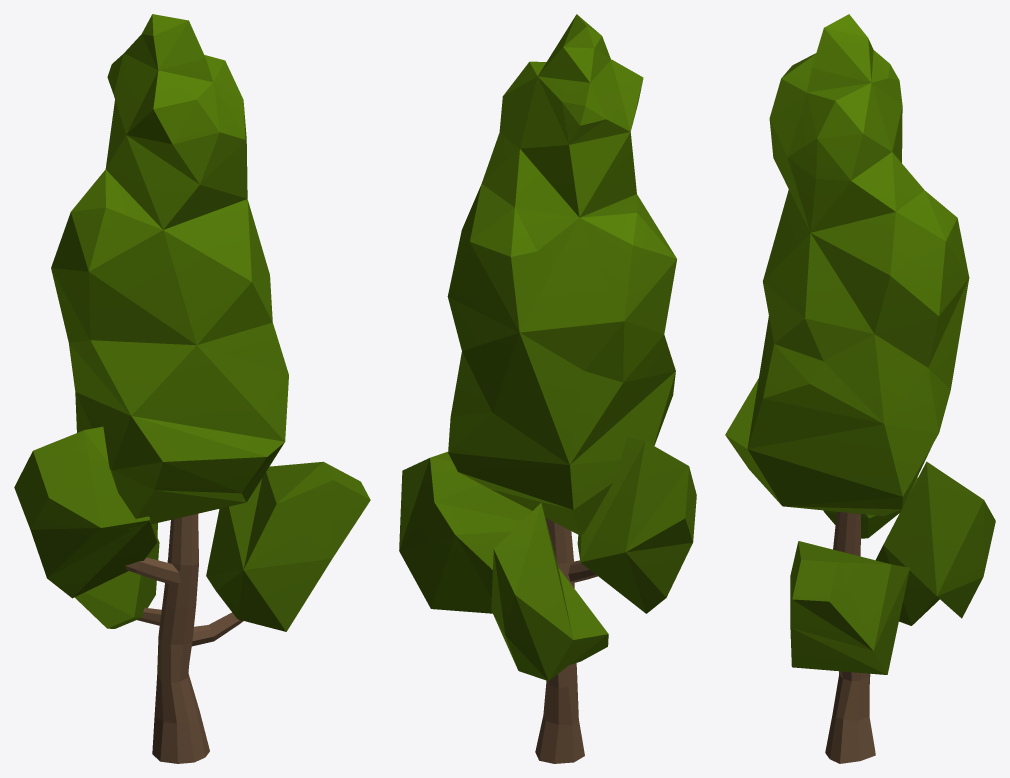
3 renders of one model, left to right at view 1: azimuth 30°, elevation 25°; view 2: azimuth 150°, elevation 25°; view 3: azimuth 270°, elevation 25°, orthographic. The views are drawn at different scales.
Visible parts, largest first — view 1: coniferous_trees_21; view 2: coniferous_trees_21; view 3: coniferous_trees_21.
Boxes of the visible parts, left/top/right/bottom form: coniferous_trees_21: left=14, top=14, right=370, bottom=763; coniferous_trees_21: left=399, top=14, right=696, bottom=763; coniferous_trees_21: left=725, top=14, right=995, bottom=763.
Bounding box in the file's own units: 1.3 × 2.93 × 0.9926.
